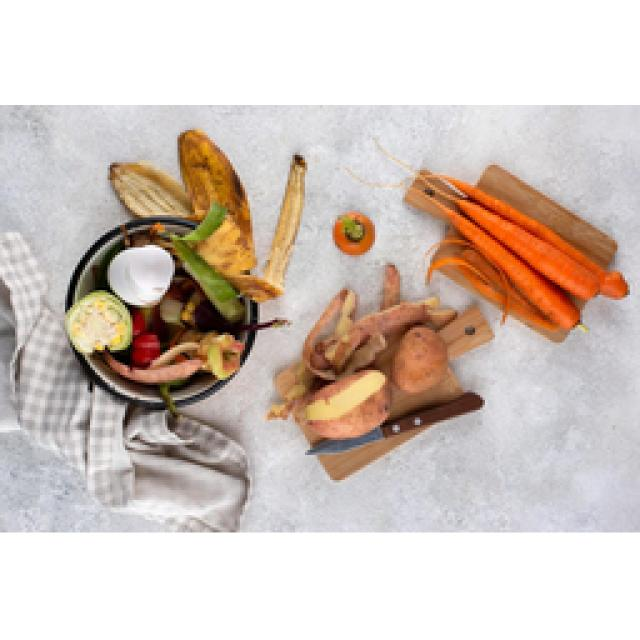food_waste: (65, 130, 302, 382), (268, 265, 490, 438), (405, 165, 622, 330)
